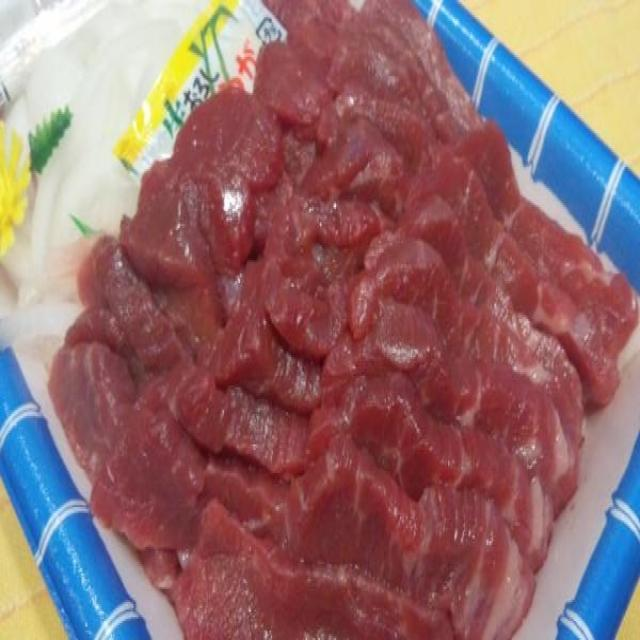刺身生食: (21, 8, 625, 634)
